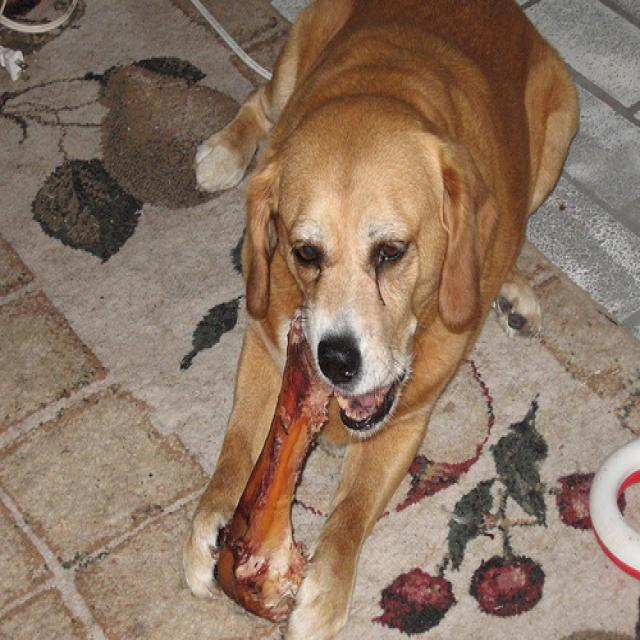dog-beagle: (169, 2, 588, 637)
